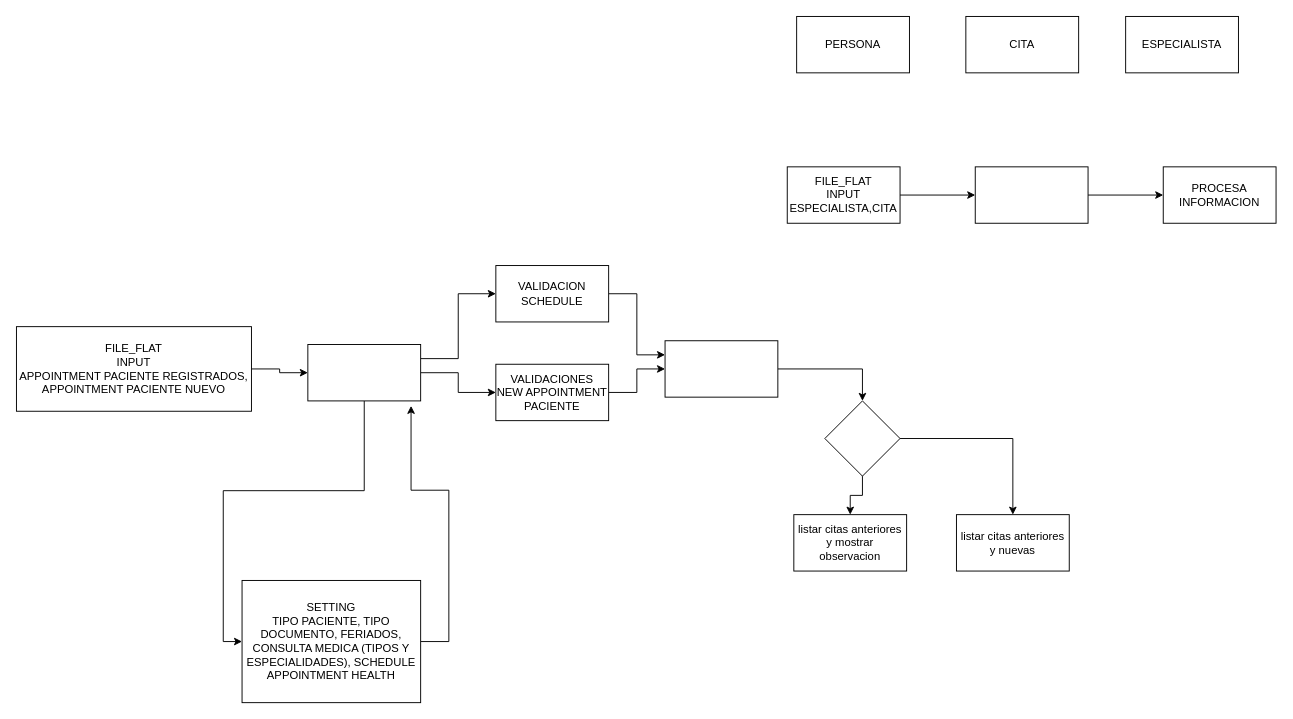
The diagram is 1293 pixels wide and 719 high, and some of its shapes have lost their labels. Each missing label, with the centre of its shape:
"Extract Result Valiaciones" belongs at pixel 721 368.
"Main" belongs at pixel 364 372.
"Si todo es ok" belongs at pixel 862 438.
"VALIDACIONES" belongs at pixel 1031 194.
